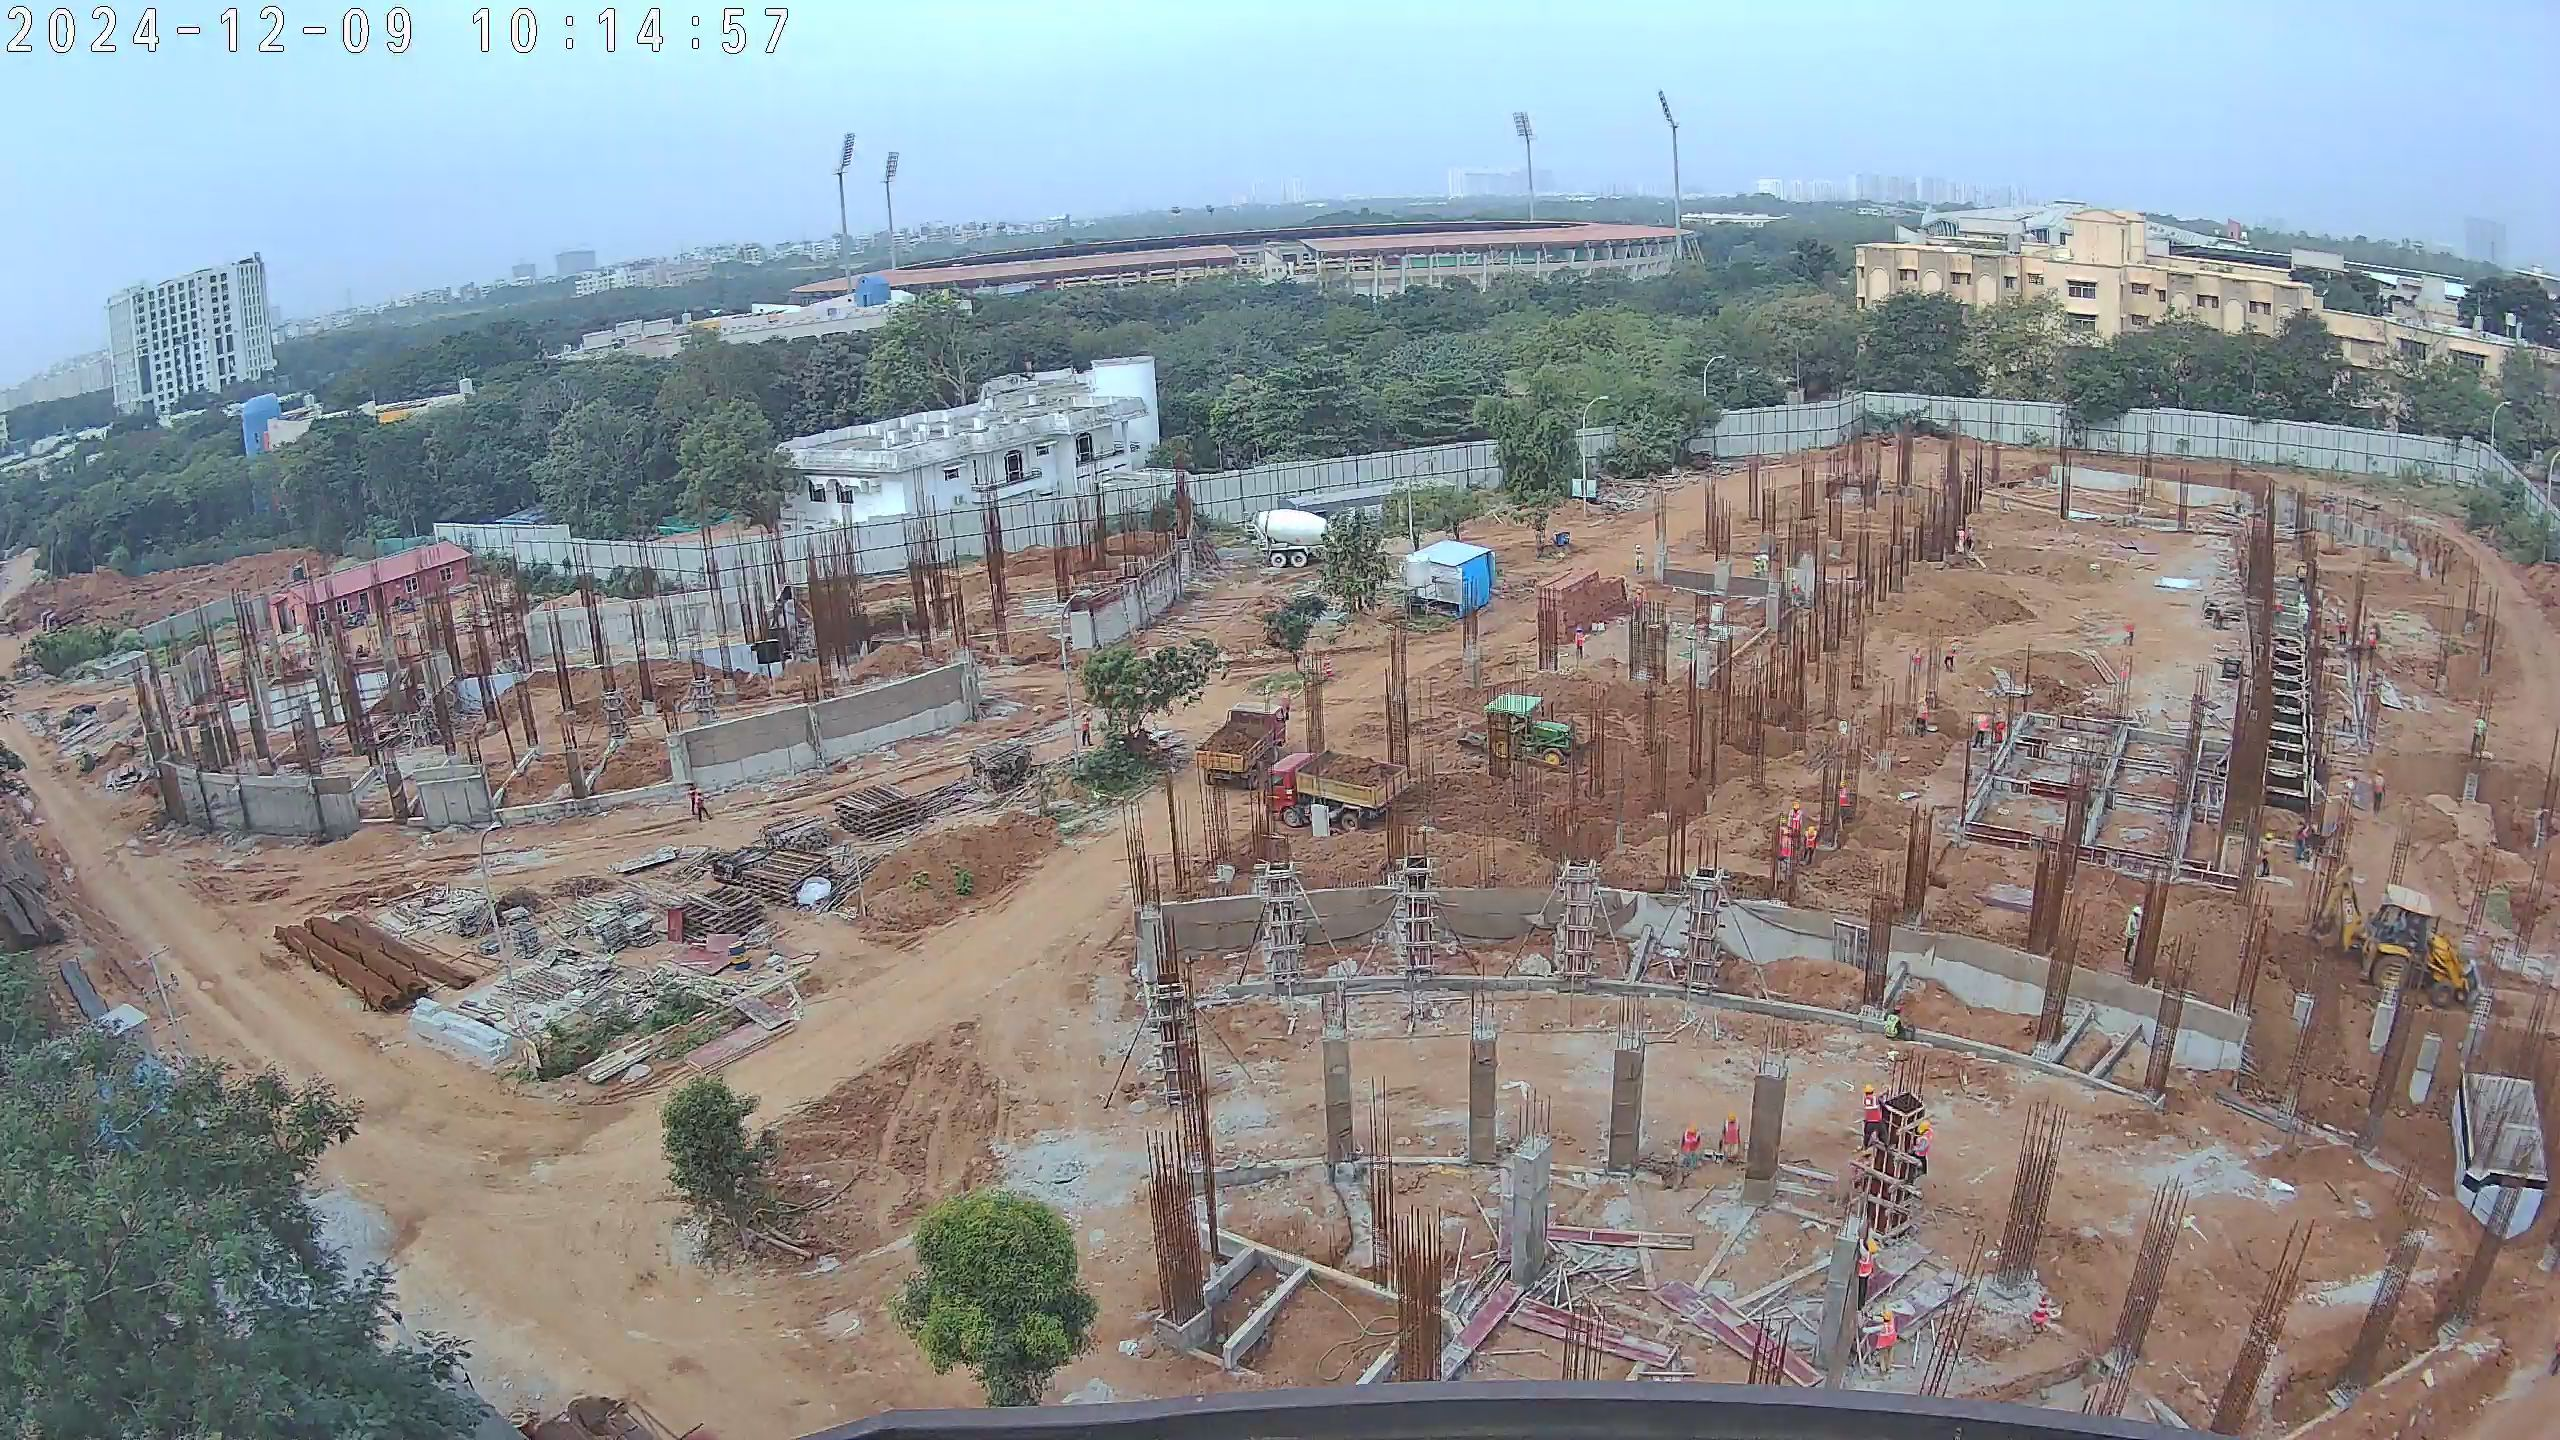bulldozer: (2314, 864, 2481, 1014), (1475, 695, 1575, 768)
truck: (1264, 745, 1412, 833), (1200, 697, 1289, 793), (1239, 500, 1339, 574)
worker: (1904, 1112, 1935, 1185), (1856, 1083, 1885, 1150), (2117, 901, 2144, 971), (1874, 1311, 1902, 1377), (1774, 813, 1799, 879), (1679, 1120, 1704, 1181), (1720, 1112, 1745, 1172), (2366, 760, 2391, 818), (2287, 814, 2316, 864), (1856, 1237, 1875, 1310), (2470, 713, 2491, 765), (2121, 617, 2149, 654), (1800, 819, 1820, 869), (1786, 800, 1805, 852), (1988, 704, 2010, 748), (1944, 635, 1965, 679), (1914, 692, 1933, 739), (1966, 712, 1988, 752), (693, 786, 715, 824), (1628, 588, 1648, 629), (1078, 702, 1094, 753), (683, 783, 701, 820), (2364, 627, 2381, 665), (1909, 642, 1924, 684), (1632, 541, 1646, 580), (1953, 523, 1967, 560), (1570, 625, 1586, 657), (1963, 522, 1978, 555), (2335, 615, 2350, 648), (1755, 550, 1772, 577), (1837, 780, 1853, 807), (1787, 575, 1804, 600), (1752, 554, 1763, 580)
